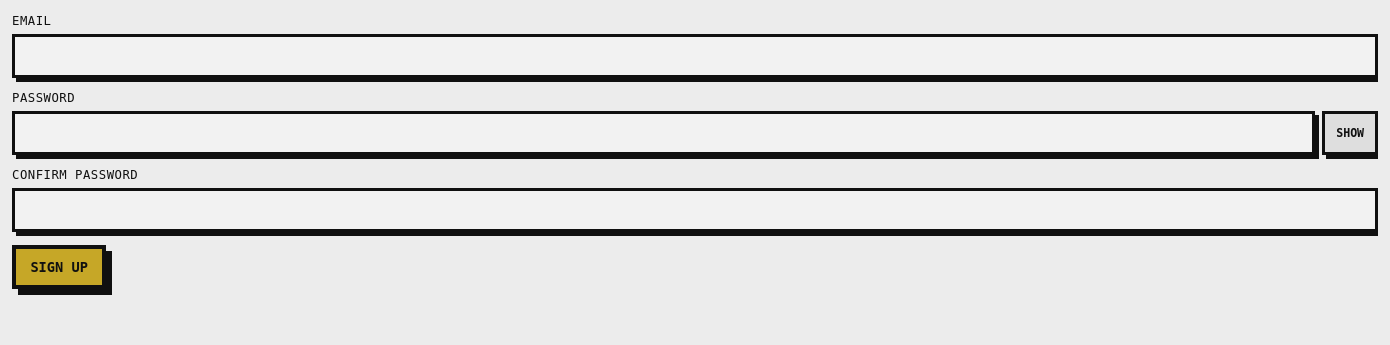
auth forms › blocks signup when password confirmation does not match
Type "new@student.edu" into the field labelled "Email".
click(695, 56); type("new@student.edu")  # box [12, 34, 1378, 78]
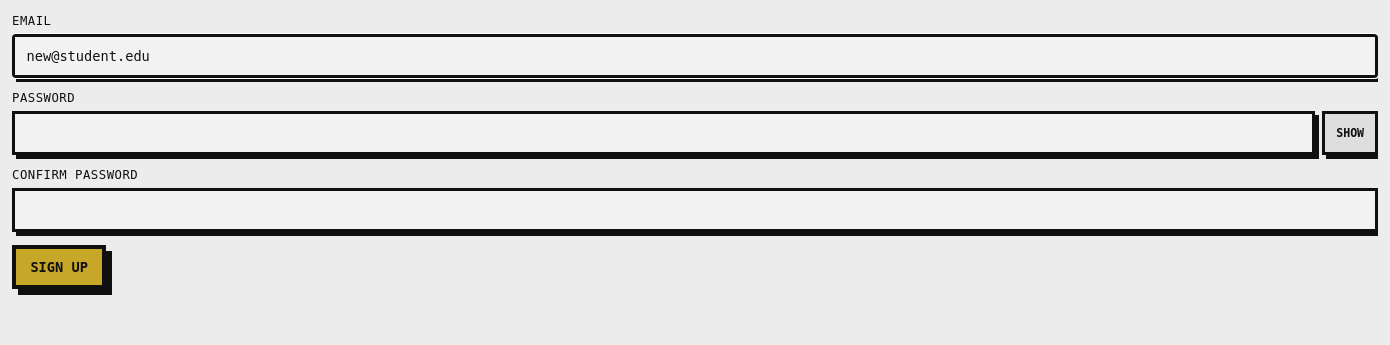
Type "password-one" into the password field labelled "Password".
click(663, 133); type("password-one")  # box [12, 111, 1315, 155]
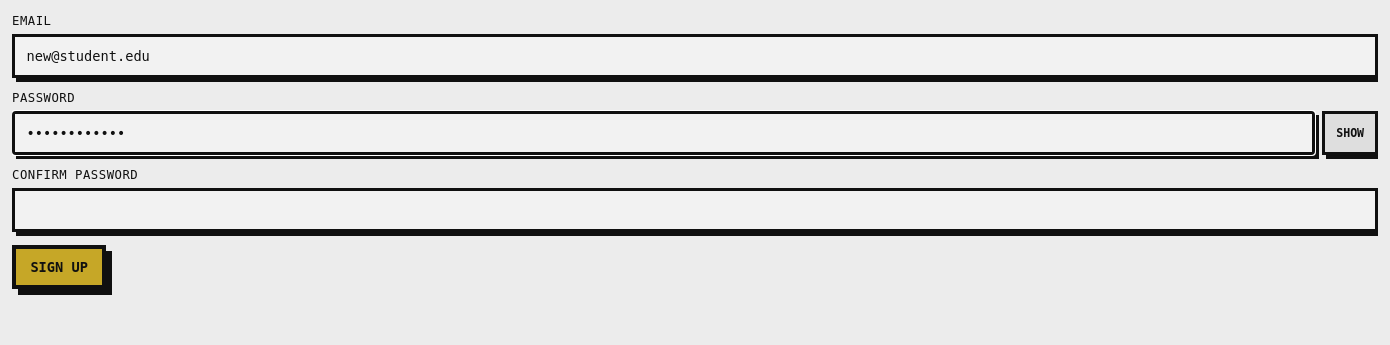
Type "password-two" into the password field labelled "Confirm password".
click(695, 210); type("password-two")  # box [12, 188, 1378, 232]
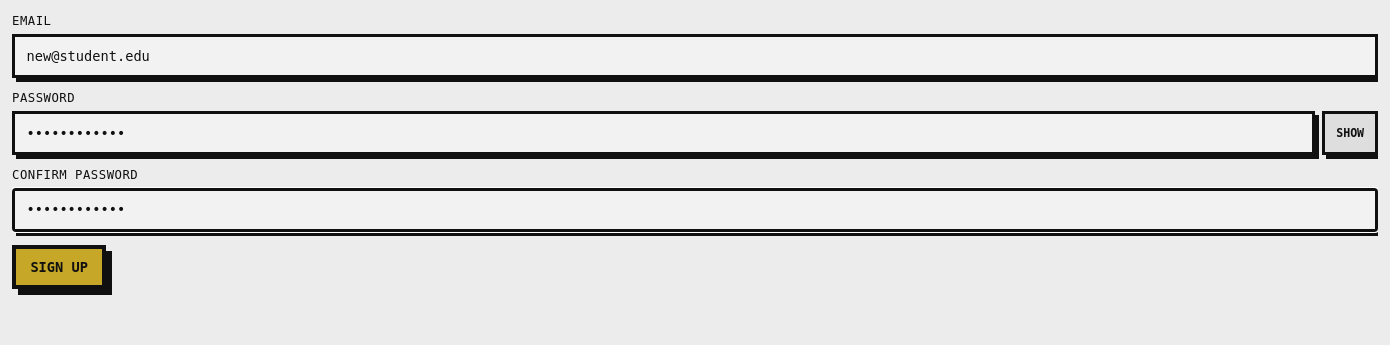
Click the button "SIGN UP".
click(59, 267)  # box [12, 244, 106, 289]
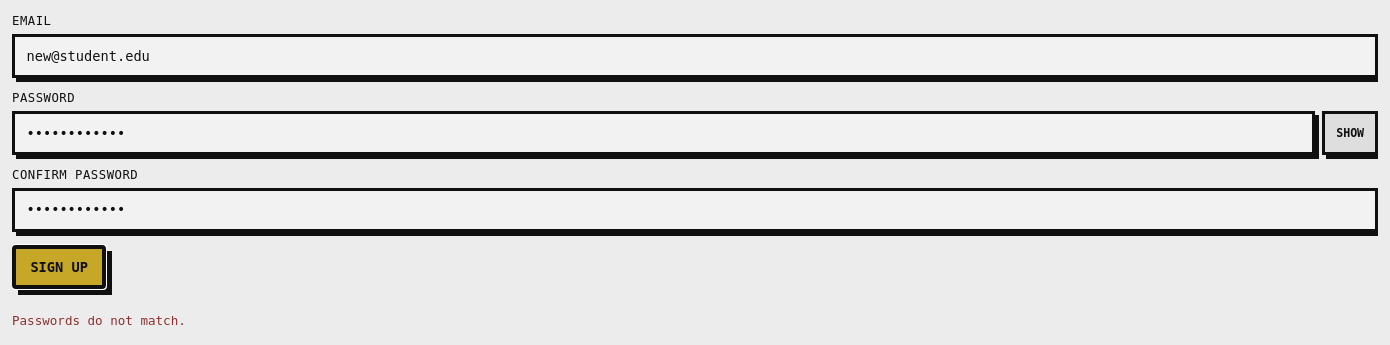
Expected: the text "Passwords do not match." is shown, [12, 313, 186, 328]
